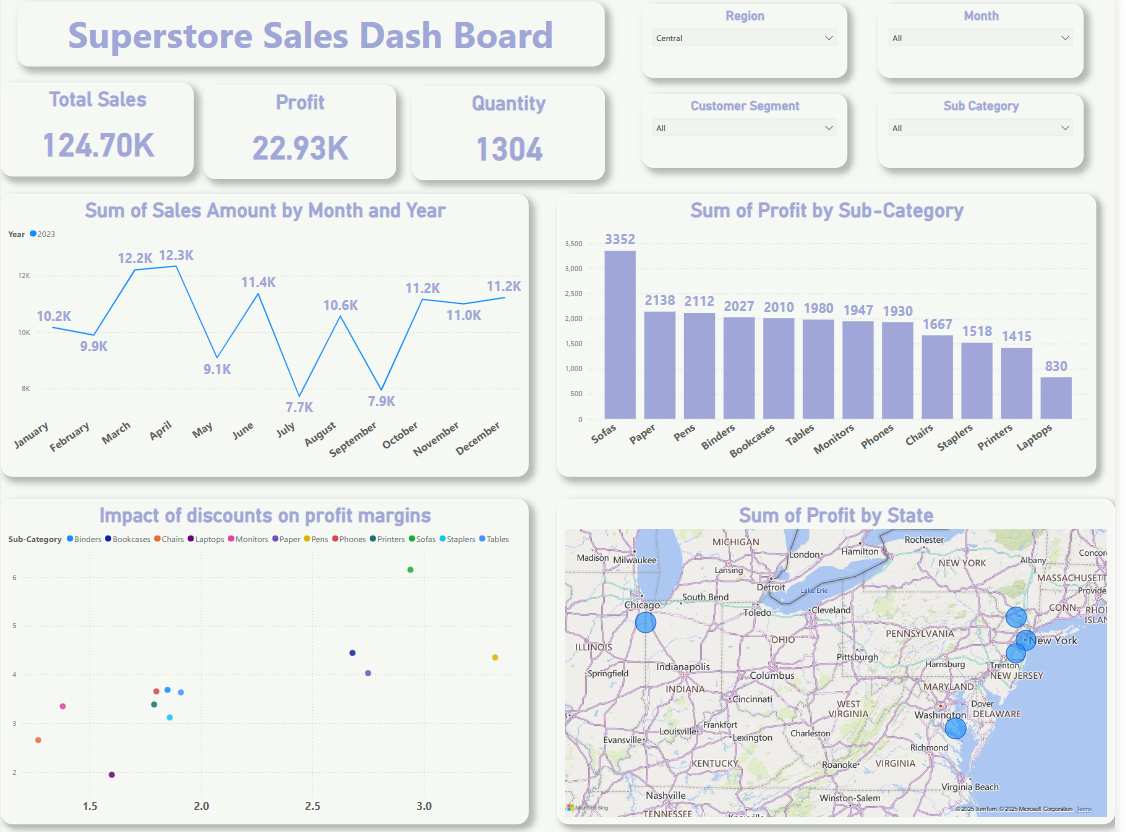

The page's visual inventory and layout, read from the dashboard file:
{"tool":"powerbi","page":{"name":"Page 1","canvas":[1800,1400],"ordinal":0},"visuals":[{"type":"card","title":"Total Sales","fields":{"Values":["Sum(Sheet1.Sales Amount)"]},"box":[0,143.5,311.2,151.6],"z":0},{"type":"card","title":"Profit","fields":{"Values":["Sum(Sheet1.Profit)"]},"box":[327.4,147.5,311.2,151.6],"z":1000},{"type":"card","title":"Quantity","fields":{"Values":["Sum(Sheet1.Quantity)"]},"box":[664.8,149.5,311.2,151.6],"z":2000},{"type":"lineChart","fields":{"Y":["Sum(Sheet1.Sales Amount)"],"Series":["Sheet1.Order Date.Variation.Date Hierarchy.Year"],"Category":["Sheet1.Order Date.Variation.Date Hierarchy.Month"]},"box":[0,323.3,852.8,456.7],"z":3000},{"type":"columnChart","fields":{"Y":["Sum(Sheet1.Profit)"],"Category":["Sheet1.Sub-Category"]},"box":[899.3,323.3,871,456.7],"z":4000},{"type":"scatterChart","title":" Impact of discounts on profit margins","fields":{"X":["Sum(Sheet1.Discount)"],"Y":["Sum(Sheet1.Profit margin)"],"Series":["Sheet1.Sub-Category"]},"box":[0,816.4,852.8,525.4],"z":5000},{"type":"slicer","title":"Region","fields":{"Values":["Sheet1.Region"]},"box":[1036.7,16.2,331.4,119.2],"z":6000},{"type":"map","fields":{"Category":["Sheet1.State"],"Size":["Sum(Sheet1.Profit)"]},"box":[899.3,816.4,901.3,525.4],"z":7000},{"type":"slicer","title":"Sub Category","fields":{"Values":["Sheet1.Sub-Category"]},"box":[1418.6,161.7,331.4,119.2],"z":8000},{"type":"slicer","title":"Customer Segment","fields":{"Values":["Sheet1.Customer Segment"]},"box":[1036.7,161.7,331.4,119.2],"z":9000},{"type":"slicer","title":"Month","fields":{"Values":["Sheet1.Order Date.Variation.Date Hierarchy.Month"]},"box":[1418.6,16.2,331.4,119.2],"z":10000},{"type":"textbox","box":[26.3,12.1,949.8,105.1],"z":11000}]}

Visuals, with their boxes on the page's 1800x1400 design canvas (x1, y1, x2, y2). These are canvas units, not pixel positions in the 1126x832 screenshot, which may show the page scaled, cropped or inside an application window:
"Total Sales" card: 0:144:311:295
"Profit" card: 327:148:639:299
"Quantity" card: 665:150:976:301
lineChart - Sum(Sheet1.Sales Amount) x Sheet1.Order Date.Variation.Date Hierarchy.Year: 0:323:853:780
columnChart - Sum(Sheet1.Profit) x Sheet1.Sub-Category: 899:323:1770:780
" Impact of discounts on profit margins" scatterChart: 0:816:853:1342
"Region" slicer: 1037:16:1368:135
map - Sheet1.State x Sum(Sheet1.Profit): 899:816:1801:1342
"Sub Category" slicer: 1419:162:1750:281
"Customer Segment" slicer: 1037:162:1368:281
"Month" slicer: 1419:16:1750:135
textbox: 26:12:976:117
